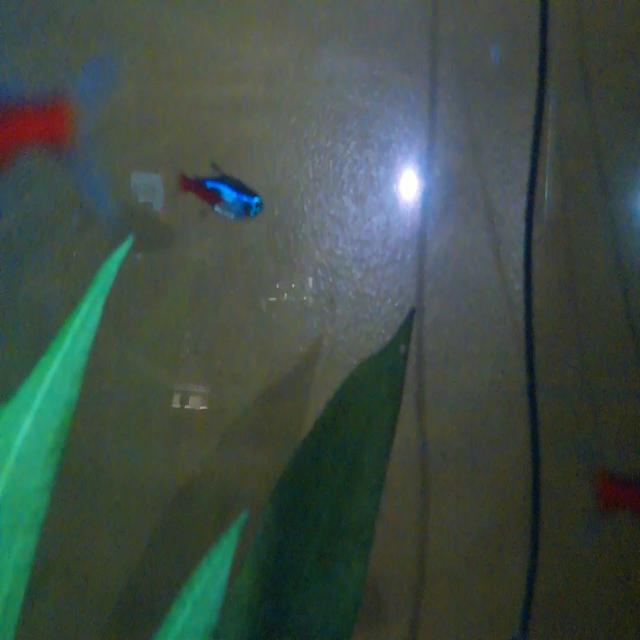fish: (177, 154, 269, 224)
